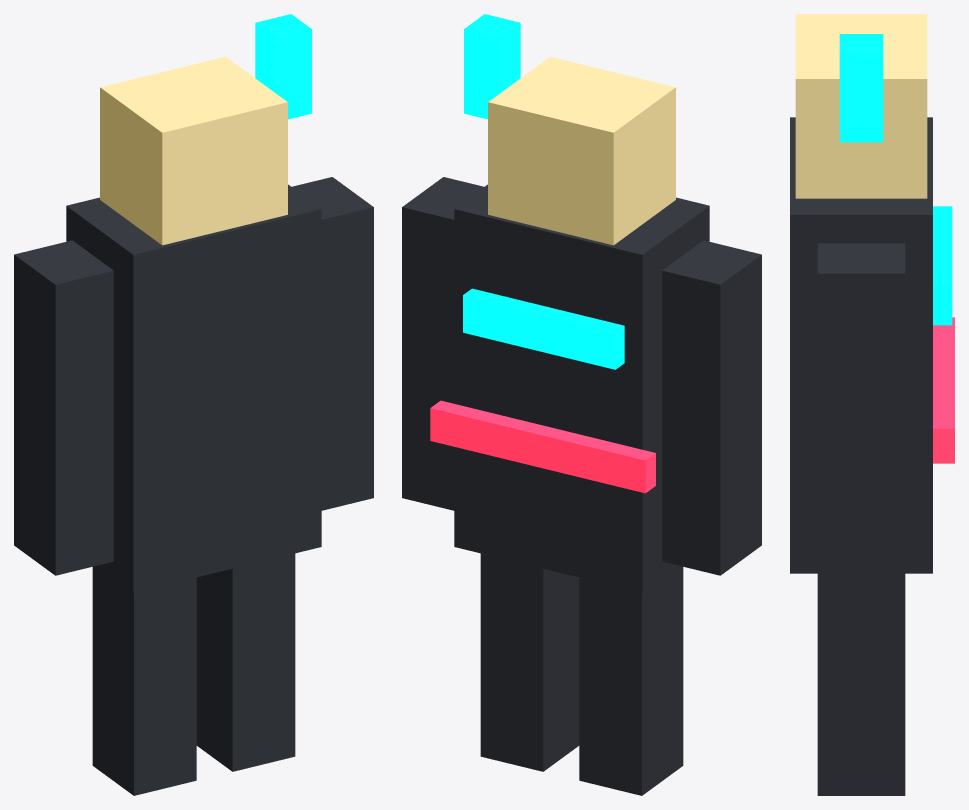
The model's file is trader-local-neon-broker.glb.
3 views of the same model, side by side, from view 1: azimuth 30°, elevation 25°; view 2: azimuth 150°, elevation 25°; view 3: azimuth 270°, elevation 25° (orthographic). The views are drawn at different scales.
Visible parts, largest first — view 1: local-neon-broker; view 2: local-neon-broker; view 3: local-neon-broker.
Part boxes in pixels (x1,y1,x2,y2): local-neon-broker: [14, 14, 373, 795]; local-neon-broker: [402, 14, 761, 795]; local-neon-broker: [790, 14, 954, 795].
Bounding box in the file's own units: 0.71 × 1.52 × 0.3.
